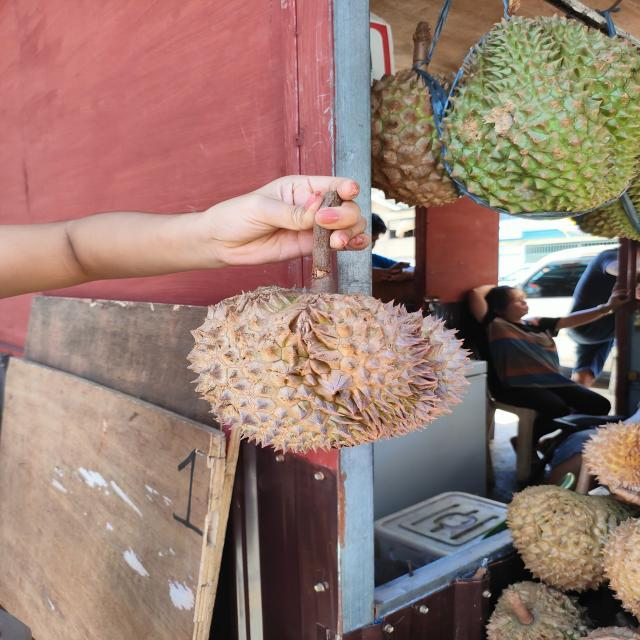mature: (186, 284, 472, 453)
